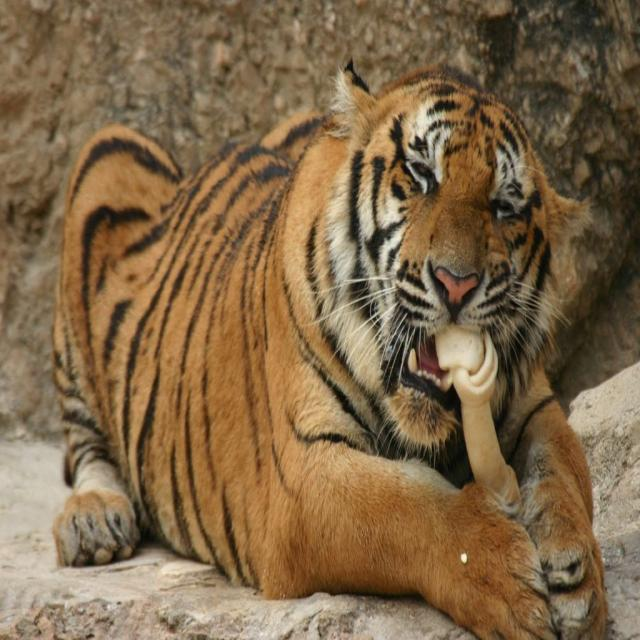Tiger: (53, 62, 594, 633)
